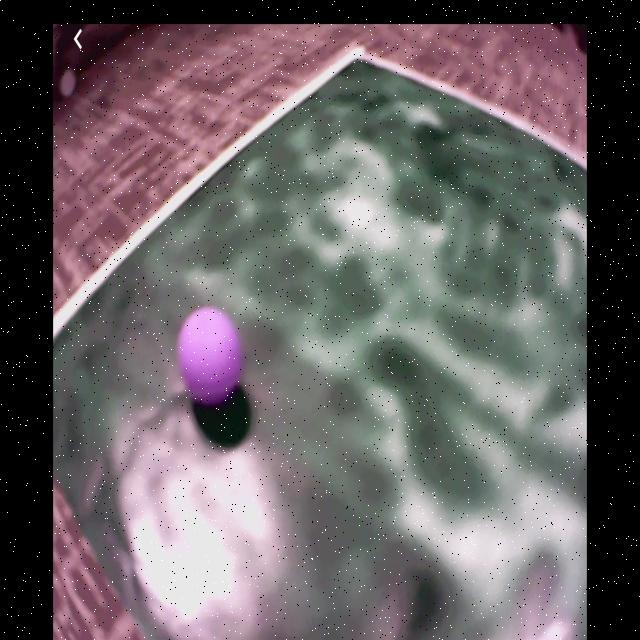ball: (180, 308, 243, 402)
